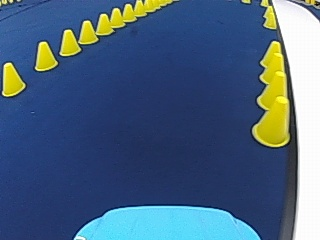cone: (254, 40, 287, 118), (251, 96, 291, 146), (256, 71, 289, 109), (258, 40, 285, 86), (1, 61, 25, 96), (33, 40, 58, 70), (58, 28, 81, 55), (78, 19, 98, 44), (95, 13, 112, 35), (262, 5, 276, 28), (109, 7, 124, 27), (122, 3, 135, 22), (133, 0, 145, 16)
